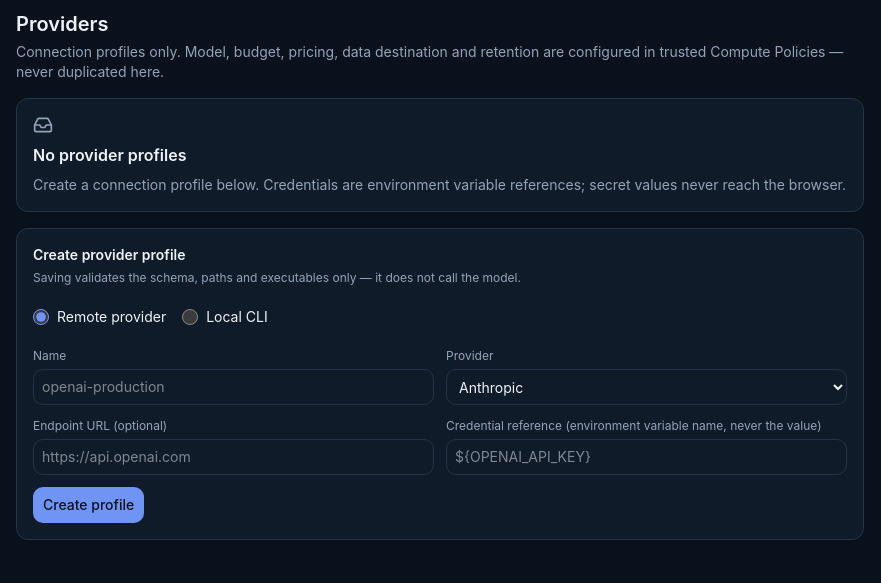
Test case: ProvidersPage › rejects a raw secret pasted into the credential field
This screenshot has width=881, height=583.
Expected: the heading "No provider profiles" is shown, [33,143,186,167]
Type "bad-profile" into the field labelled "Name".
click(234, 387); type("bad-profile")  # box [33,369,434,405]
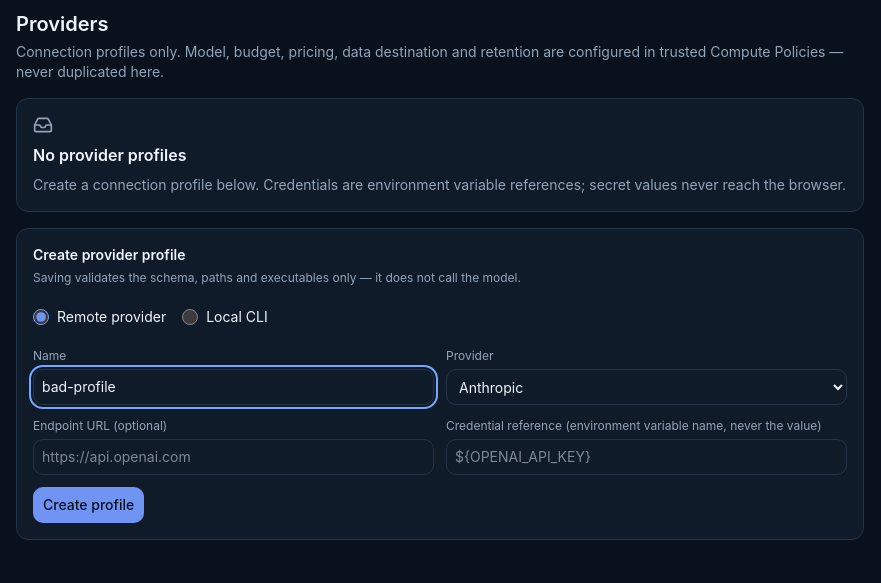
Type "sk-livevalue" into the field labelled "Credential reference".
click(646, 457); type("sk-livevalue")  # box [446,439,847,475]
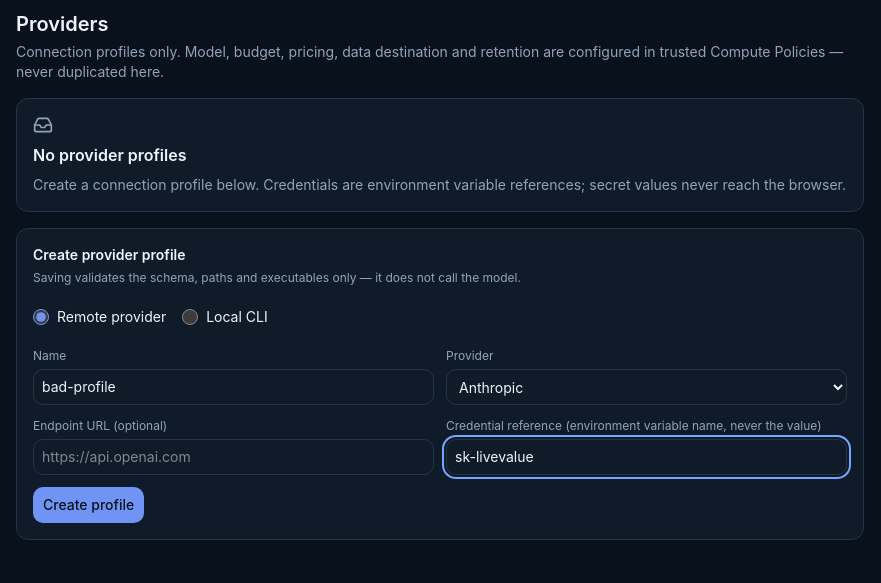
Click the button "Create profile".
click(89, 505)  # box [33,487,144,523]
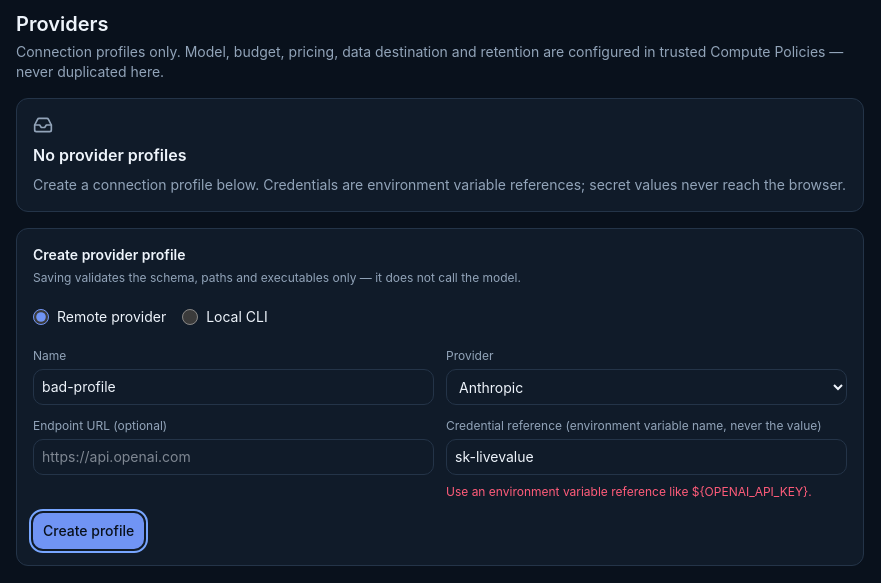
Now the text "Use an environment variable reference like" is shown, box [446,484,812,499]
